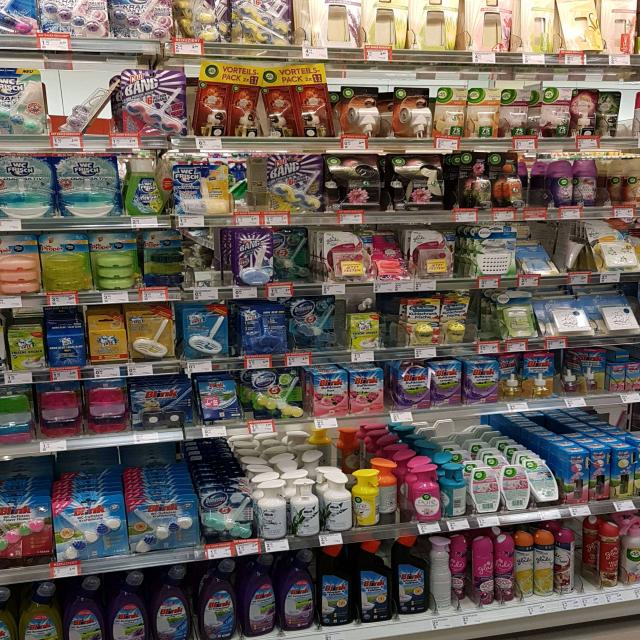empty: (572, 523, 601, 597), (378, 297, 408, 351)
